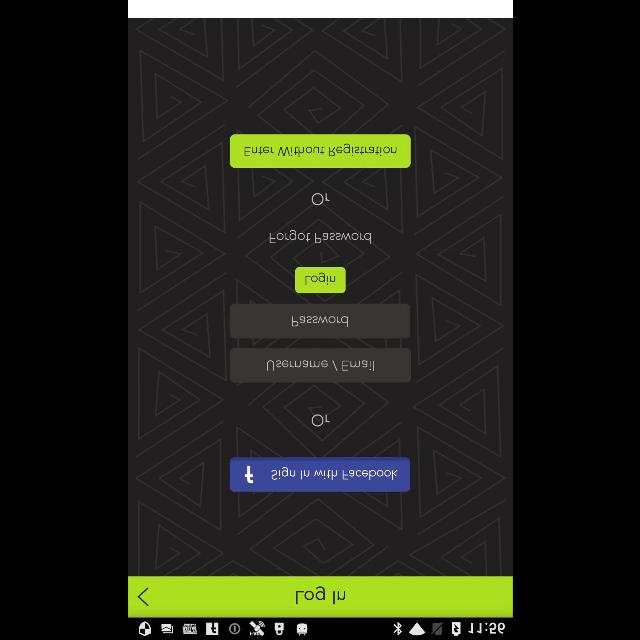backgroundimage: (128, 18, 512, 576)
icon: (136, 586, 148, 606)
input: (228, 348, 410, 382), (230, 304, 410, 338)
text: (268, 230, 370, 244), (266, 361, 374, 372), (296, 586, 344, 604), (291, 316, 347, 326), (310, 192, 330, 205), (310, 414, 330, 426)
textbutton: (228, 457, 410, 491), (230, 134, 410, 168), (294, 267, 346, 293)
toolbar: (128, 576, 512, 616)
uppertaskbar: (128, 617, 512, 639)
